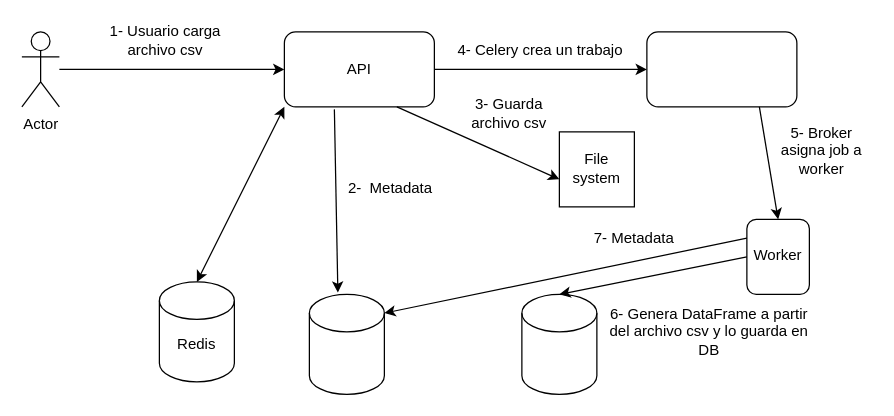
The diagram is 894 pixels wide and 416 high, and some of its shapes have lost their labels. The box of each missing label's shape, as (x1, y1, x2, y2) in pixels:
MongoDB: (521, 293, 597, 394)
Postgresql: (308, 293, 384, 394)
RabbitMQ: (646, 31, 797, 107)
